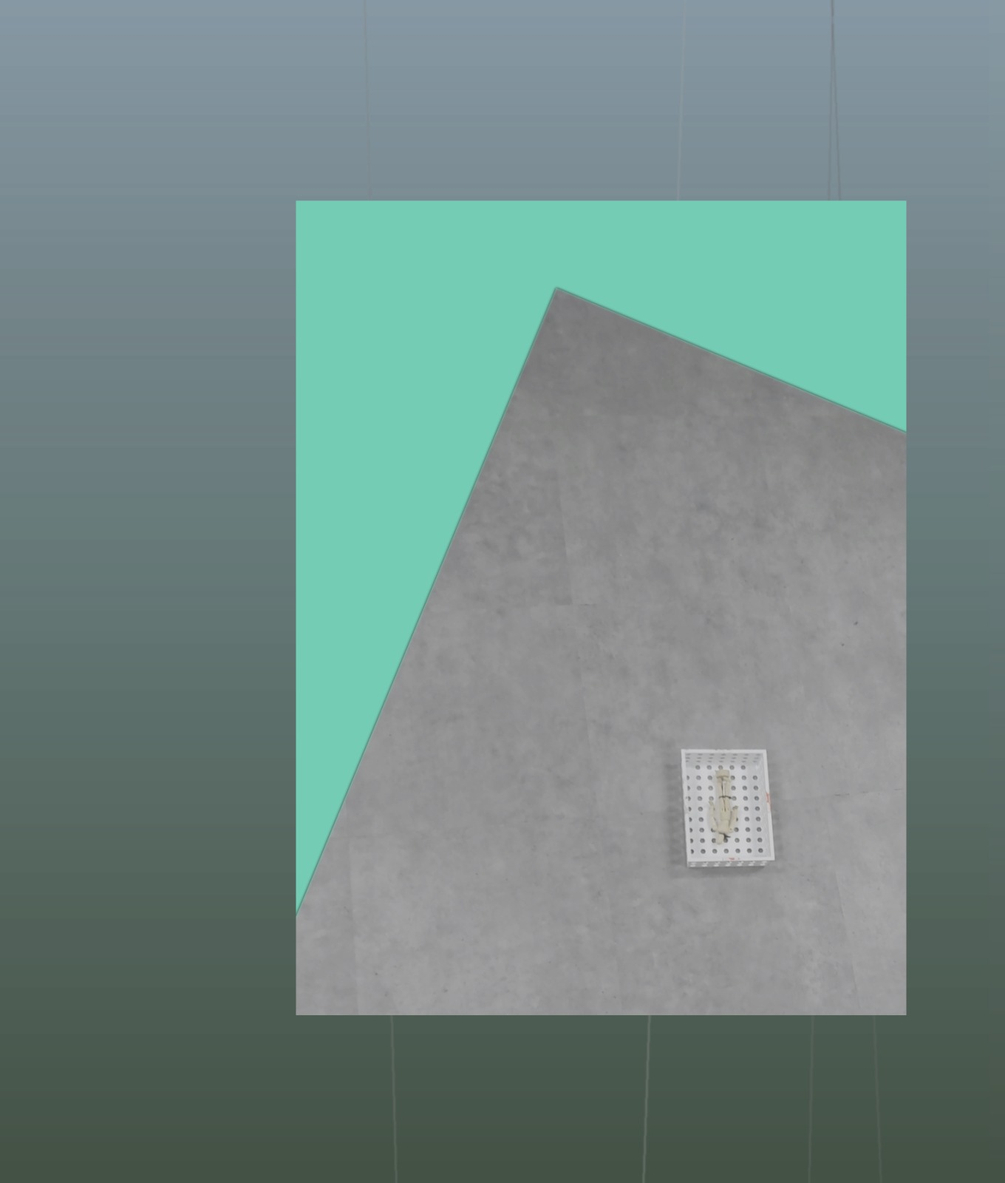basket: (678, 745, 780, 870)
mannequin: (706, 767, 739, 846)
